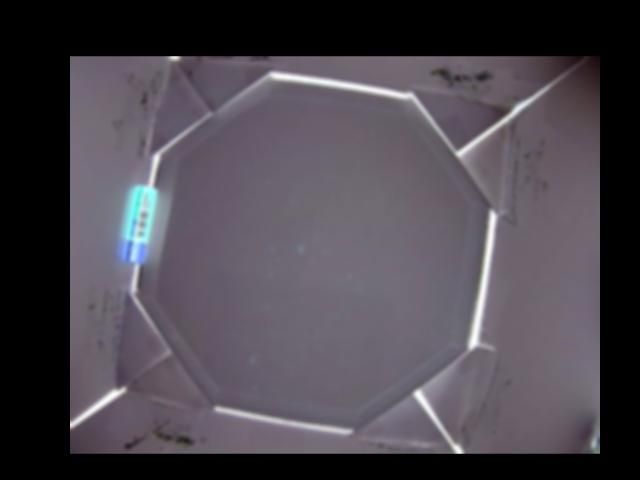Battery: (123, 183, 156, 264)
